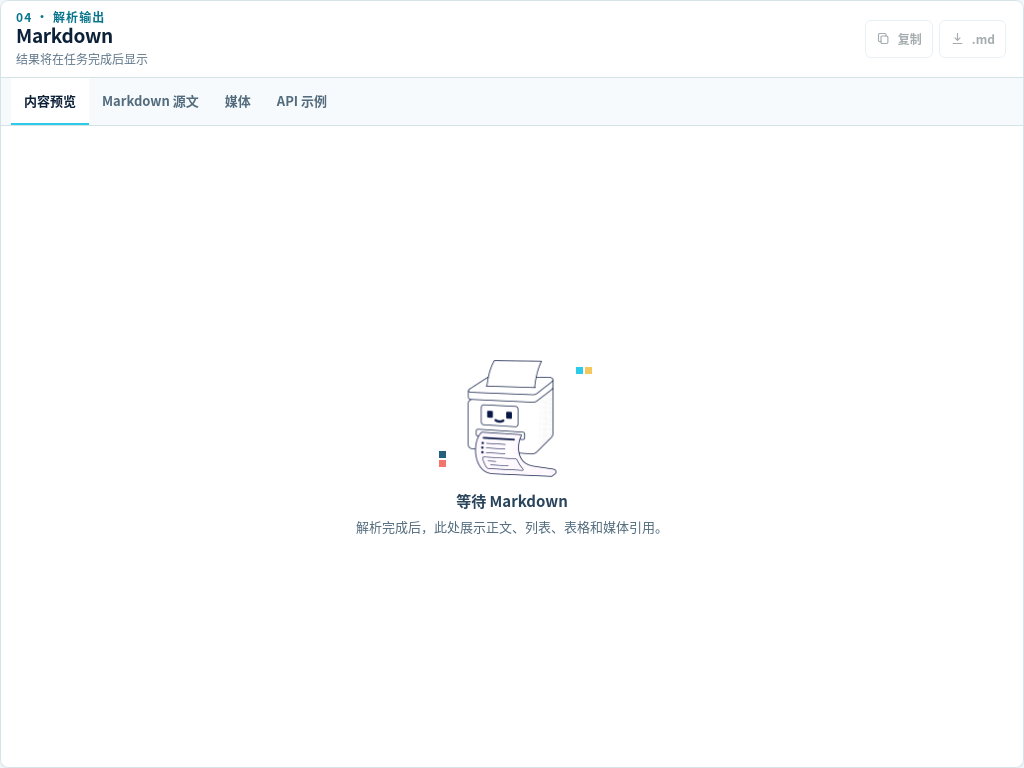
Test case: ResultPane › documents that only the result endpoint returns Markdown
Click the tab "API 示例" at (302, 101), box [264,78,340,125]
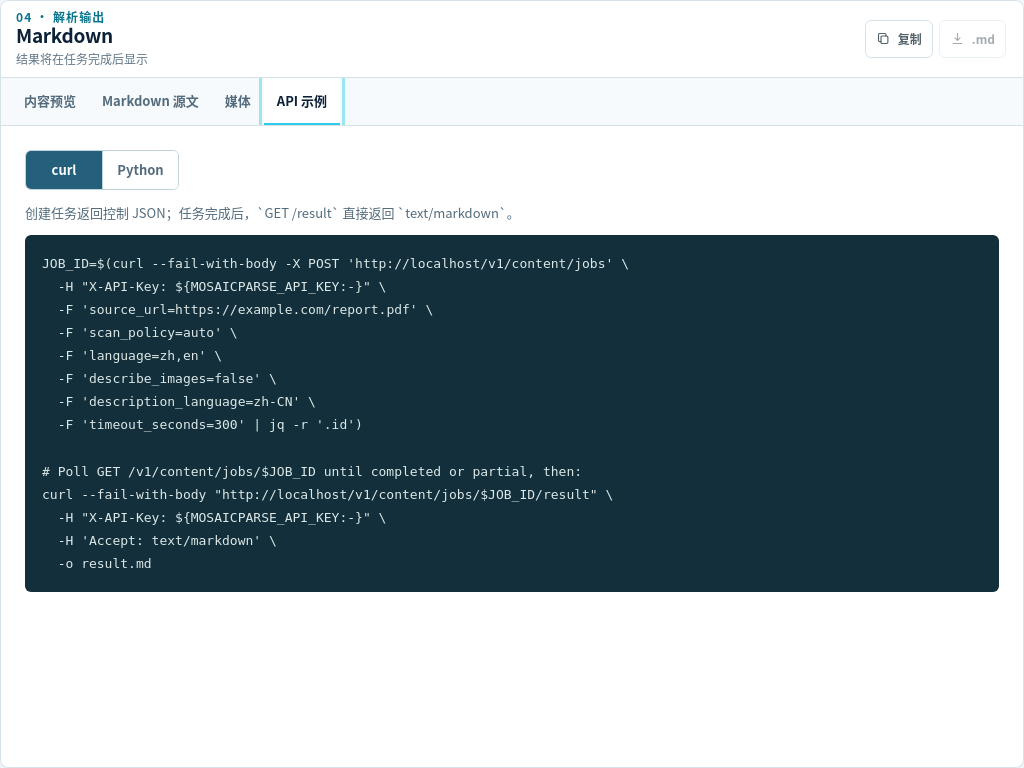
Expected: the text "创建任务返回控制 JSON；任务完成后，`GET /result` 直接返回 `text/markdown`。" is shown 2 times, [25,203,520,222]; [42,256,629,571]
Expected: the text "创建任务返回控制 JSON；任务完成后，`GET /result` 直接返回 `text/markdown`。" is shown, [25,203,520,222]
